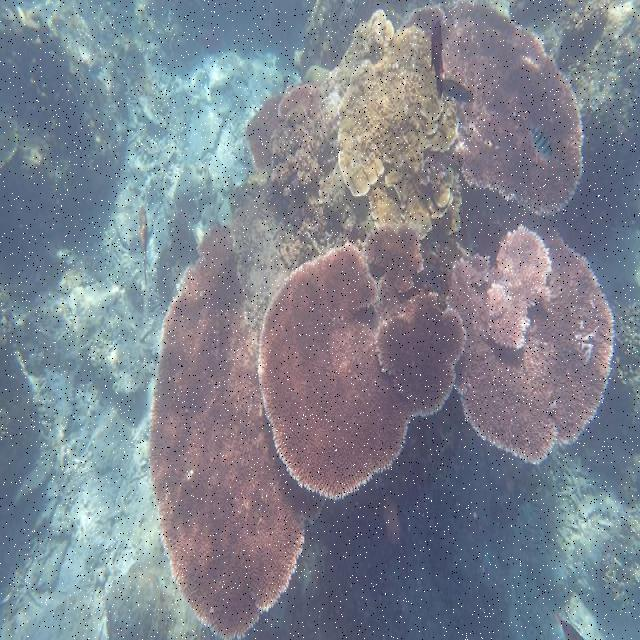fish: (430, 15, 443, 98), (529, 127, 552, 158), (444, 80, 474, 101), (140, 206, 148, 277)
reefs: (151, 224, 324, 639), (257, 224, 465, 499), (445, 221, 615, 465), (401, 4, 583, 216), (338, 27, 462, 240)
